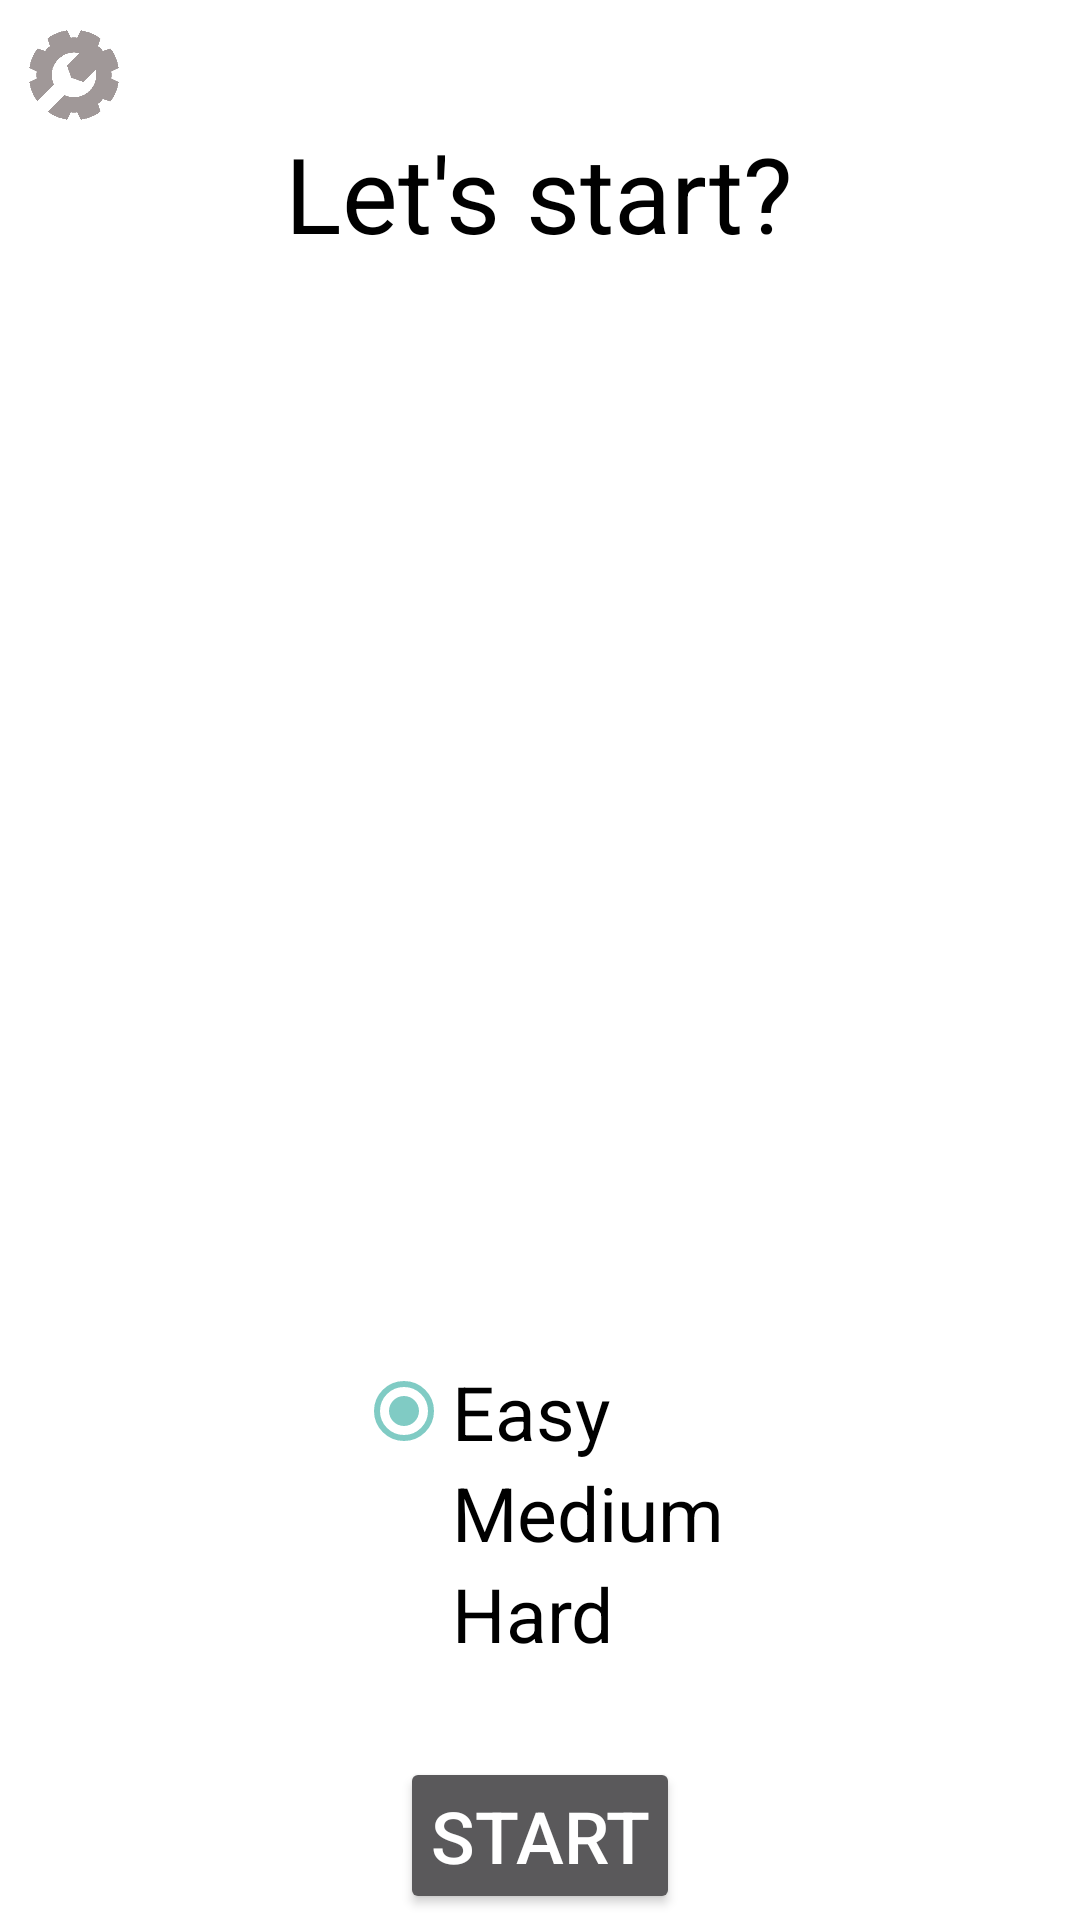

Screen size 1080px x 1920px. Icon name, then its center in pixels as (x,y):
setttings: (74,75)
